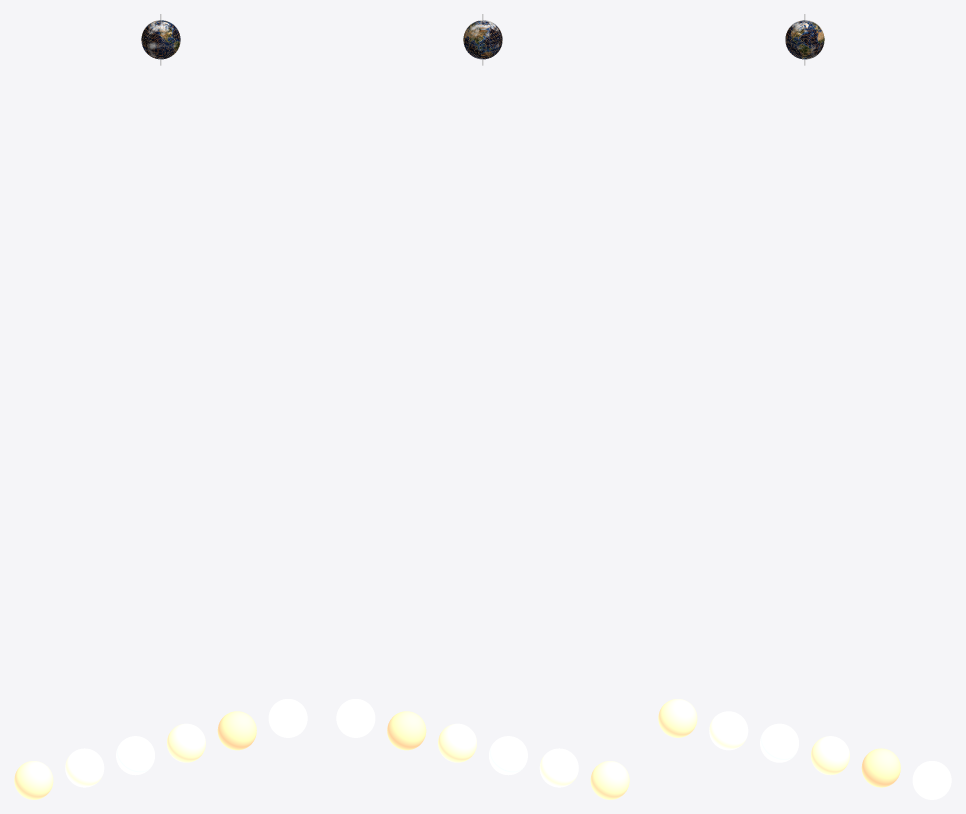
The model's file is earthspace.glb.
3 renders of one model, left to right at view 1: azimuth 30°, elevation 25°; view 2: azimuth 150°, elevation 25°; view 3: azimuth 330°, elevation 25°, orthographic.
Visible parts, largest first — view 1: STAR_SUN, STAR_SUPERGIANT, STAR_RED_DWARF, STAR_RED_GIANT, STAR_WHITE_DWARF, STAR_BLUE_GIANT, EARTH; view 2: STAR_SUN, STAR_SUPERGIANT, STAR_RED_DWARF, STAR_RED_GIANT, STAR_WHITE_DWARF, EARTH, STAR_BLUE_GIANT; view 3: STAR_SUPERGIANT, STAR_SUN, STAR_WHITE_DWARF, STAR_BLUE_GIANT, STAR_RED_DWARF, EARTH, STAR_RED_GIANT.
Boxes of the visible parts, x1=… form: STAR_SUN: x1=65, y1=748, x2=104, y2=787; STAR_SUPERGIANT: x1=217, y1=711, x2=256, y2=750; STAR_RED_DWARF: x1=14, y1=761, x2=53, y2=799; STAR_RED_GIANT: x1=167, y1=723, x2=205, y2=762; STAR_WHITE_DWARF: x1=268, y1=699, x2=307, y2=737; STAR_BLUE_GIANT: x1=116, y1=736, x2=154, y2=775; EARTH: x1=141, y1=20, x2=180, y2=59; STAR_SUN: x1=539, y1=748, x2=578, y2=787; STAR_SUPERGIANT: x1=387, y1=711, x2=426, y2=750; STAR_RED_DWARF: x1=590, y1=761, x2=629, y2=799; STAR_RED_GIANT: x1=438, y1=723, x2=476, y2=762; STAR_WHITE_DWARF: x1=336, y1=699, x2=375, y2=737; EARTH: x1=463, y1=20, x2=502, y2=59; STAR_BLUE_GIANT: x1=489, y1=736, x2=527, y2=775; STAR_SUPERGIANT: x1=861, y1=748, x2=900, y2=787; STAR_SUN: x1=709, y1=711, x2=748, y2=750; STAR_WHITE_DWARF: x1=912, y1=761, x2=951, y2=799; STAR_BLUE_GIANT: x1=760, y1=723, x2=798, y2=762; STAR_RED_DWARF: x1=658, y1=699, x2=697, y2=737; EARTH: x1=785, y1=20, x2=824, y2=59; STAR_RED_GIANT: x1=811, y1=736, x2=849, y2=775.
Bounding box in the file's own units: 17 × 42.45 × 2.02.
Materials: 12 (4 with a texture image).
